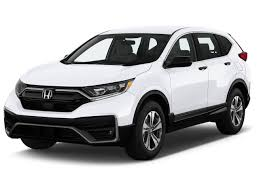Honda: (2, 26, 252, 160)
